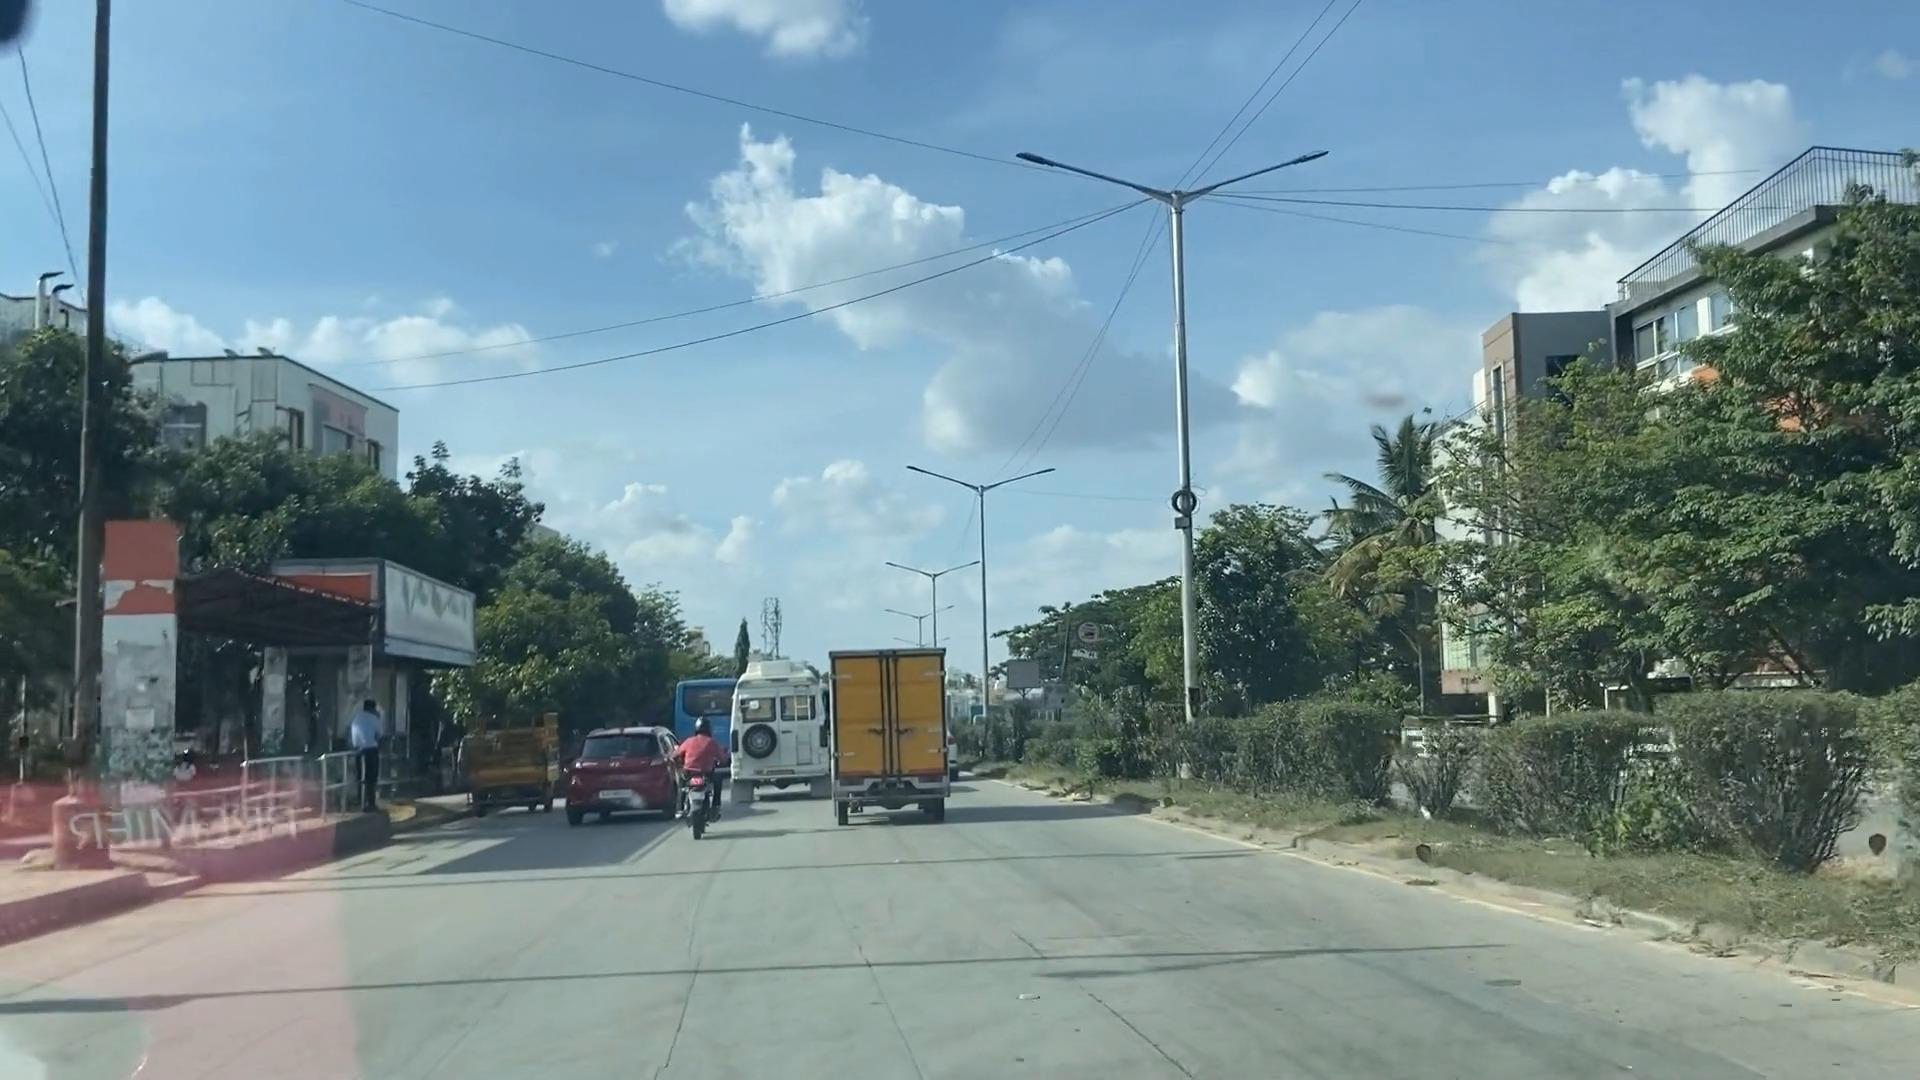HMV: (824, 646, 961, 829), (740, 658, 837, 794)
LMV: (579, 719, 684, 811), (682, 719, 729, 832)
